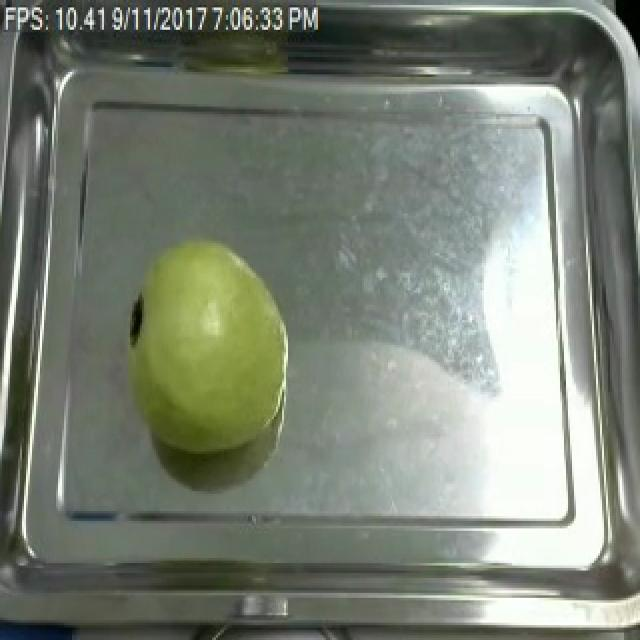Fruit: (112, 228, 298, 466)
